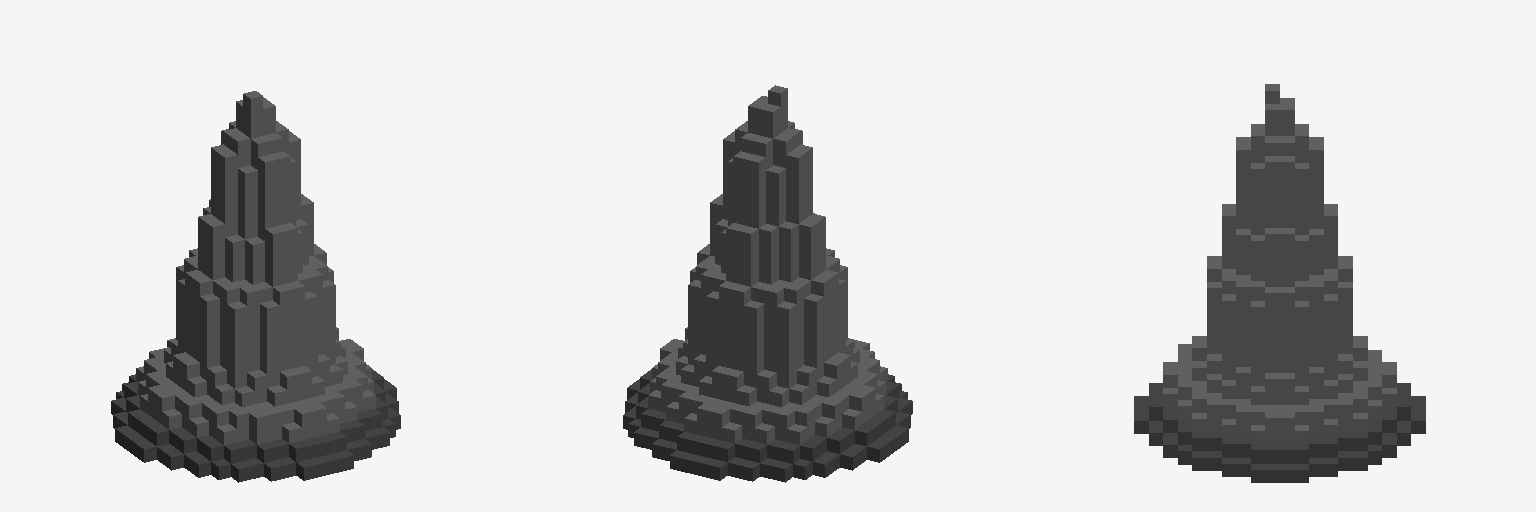
The picture shows the model from 3 angles: view 1: azimuth 30°, elevation 25°; view 2: azimuth 150°, elevation 25°; view 3: azimuth 270°, elevation 25°; orthographic projection.
Visible parts, largest first — view 1: Model; view 2: Model; view 3: Model.
Part boxes in pixels (x1,y1,x2,y2): Model: (111,91,400,482); Model: (623,85,912,482); Model: (1134,84,1425,482).
Bounding box in the file's own units: 20 × 25 × 20.
1 materials, 1 textured.